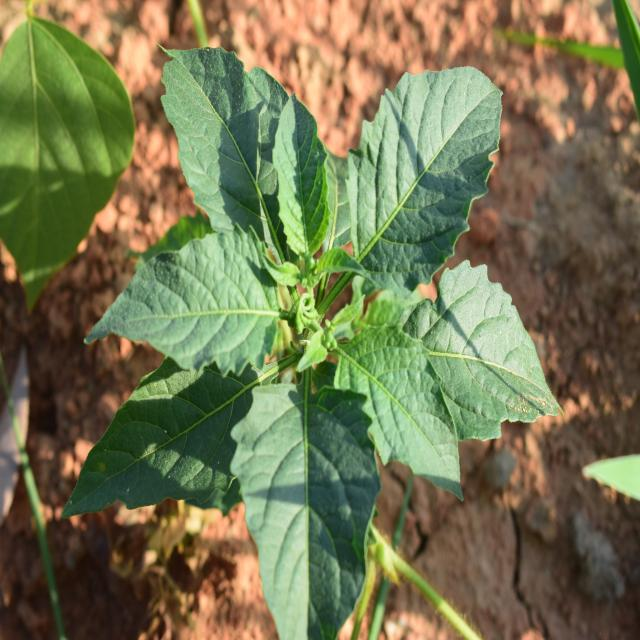Black_nightshade: (146, 39, 537, 620)
